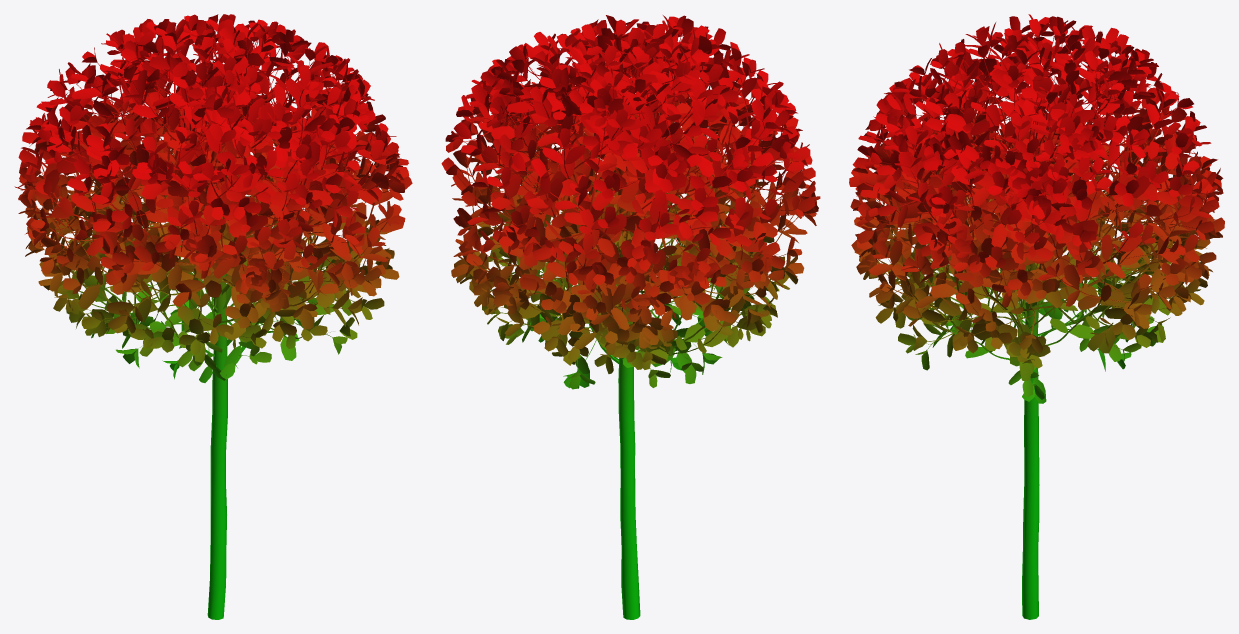
Rendered from Var7_LOD2.fbx.
The picture shows the model from 3 angles, left to right: view 1: azimuth 30°, elevation 25°; view 2: azimuth 150°, elevation 25°; view 3: azimuth 270°, elevation 25°; orthographic projection. The views are drawn at different scales.
Visible parts, largest first — view 1: _mlut_Var7_LOD2; view 2: _mlut_Var7_LOD2; view 3: _mlut_Var7_LOD2.
Boxes of the visible parts, box(x1,y1,x2,y2) form: _mlut_Var7_LOD2: box(14, 14, 412, 619); _mlut_Var7_LOD2: box(441, 15, 820, 619); _mlut_Var7_LOD2: box(849, 14, 1224, 619).
Bounding box in the file's own units: 46.75 × 77.72 × 45.89.
